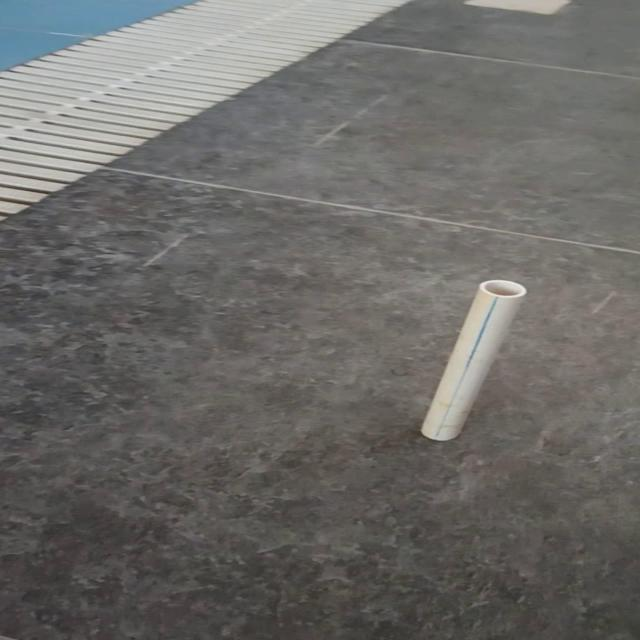Cube: (418, 279, 527, 441)
